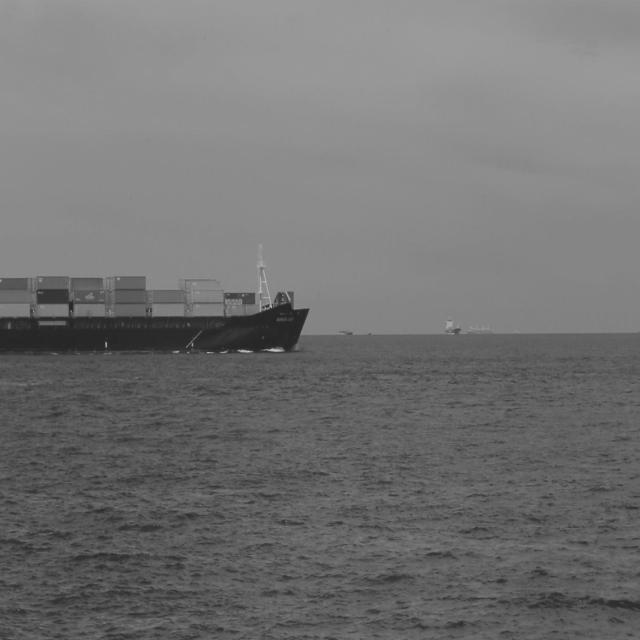ship: (0, 242, 311, 353), (433, 315, 453, 335)
